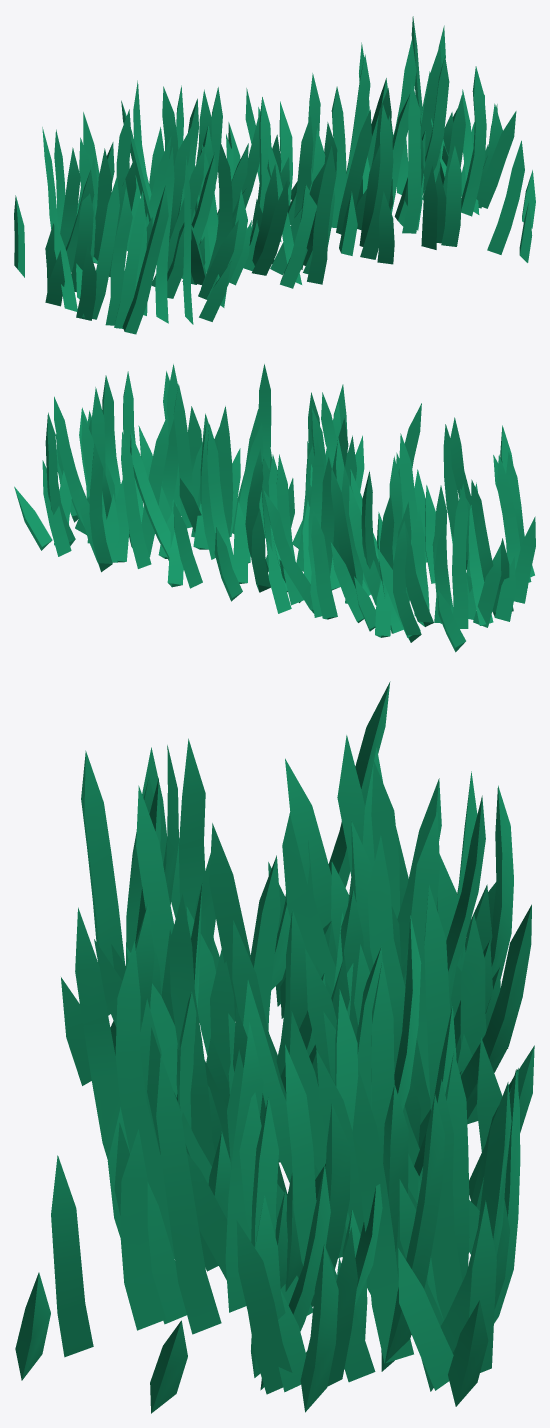
File: coral_seagrass_A_dense.fbx
3 renders of one model, top to bottom at view 1: azimuth 30°, elevation 25°; view 2: azimuth 150°, elevation 25°; view 3: azimuth 270°, elevation 25°, orthographic. The views are drawn at different scales.
Visible parts, largest first — view 1: coral_seagrass_A_dense; view 2: coral_seagrass_A_dense; view 3: coral_seagrass_A_dense.
Boxes of the visible parts, bbox=[...] form: coral_seagrass_A_dense: bbox=[14, 16, 535, 334]; coral_seagrass_A_dense: bbox=[14, 364, 535, 652]; coral_seagrass_A_dense: bbox=[15, 681, 534, 1413].
Size of the model in its own units: 234 by 82.49 by 116.
